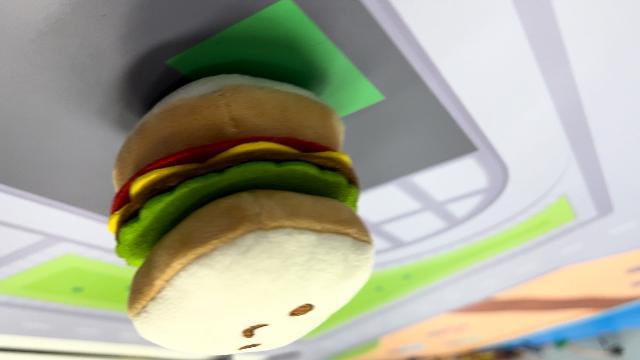sandwich: (106, 72, 378, 354)
